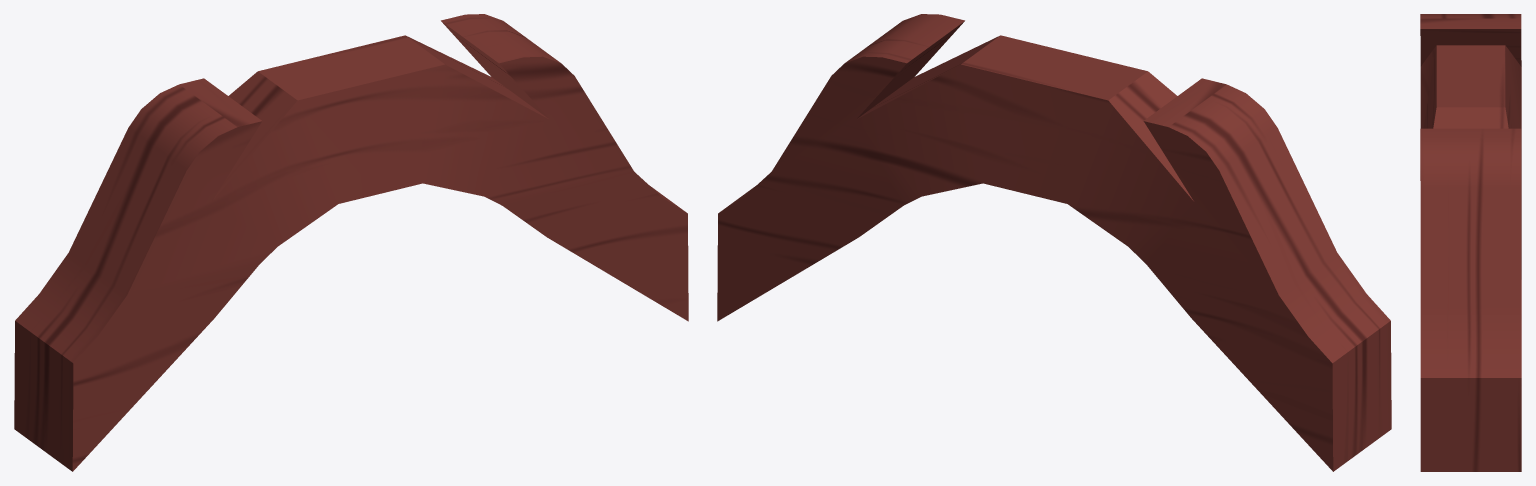
File: Cdayanak.fbx
3 renders of one model, left to right at view 1: azimuth 30°, elevation 25°; view 2: azimuth 150°, elevation 25°; view 3: azimuth 270°, elevation 25°, orthographic. The views are drawn at different scales.
Visible parts, largest first — view 1: odun1; view 2: odun1; view 3: odun1.
Boxes of the visible parts, x1,y1,x2,y2 form: odun1: [14, 14, 688, 471]; odun1: [717, 14, 1391, 471]; odun1: [1420, 14, 1521, 471].
Bounding box in the file's own units: 3369 × 1607 × 554.
